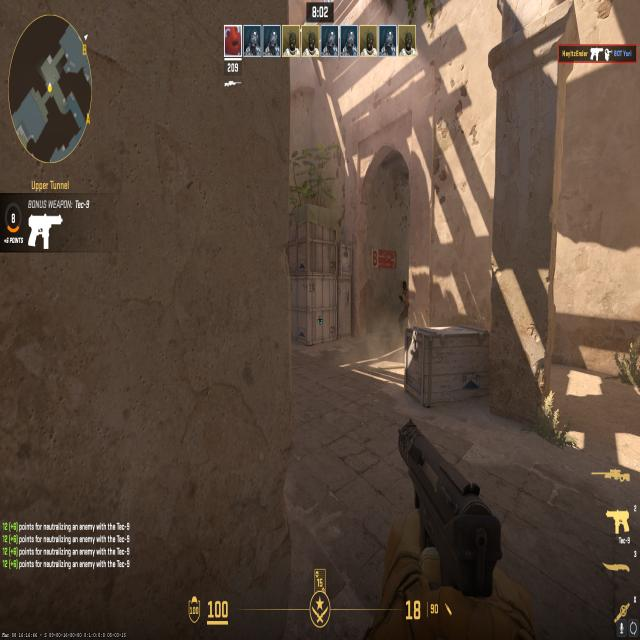t: (397, 275, 409, 326)
